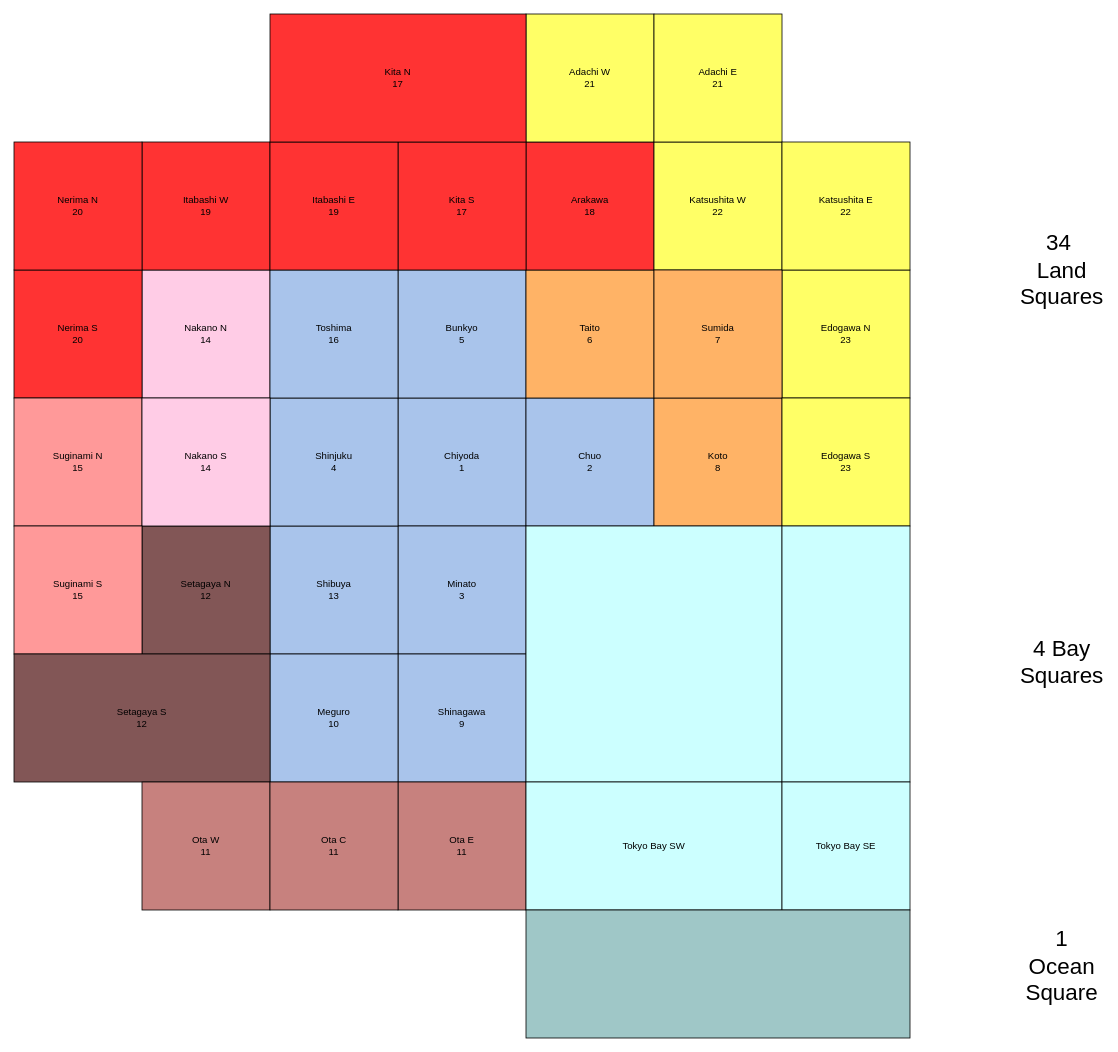
Some shapes in this 1118 by 1052 pixel diagram are drawn without their labels. Each missing label, with the box of its shape:
Sagami Bay / Pacific Ocean: (525, 909, 910, 1038)
Tokyo Bay NE: (781, 525, 910, 782)
Tokyo Bay NW: (525, 525, 782, 782)
